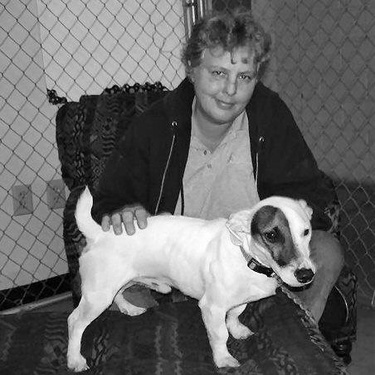dog: (37, 186, 322, 370)
